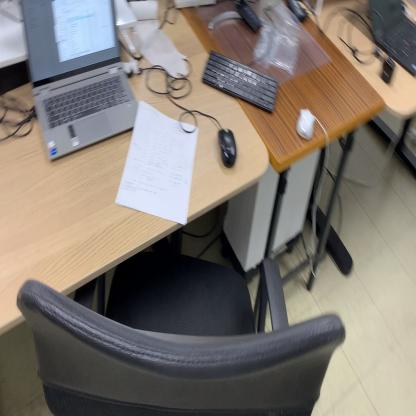chair: (16, 240, 346, 416)
